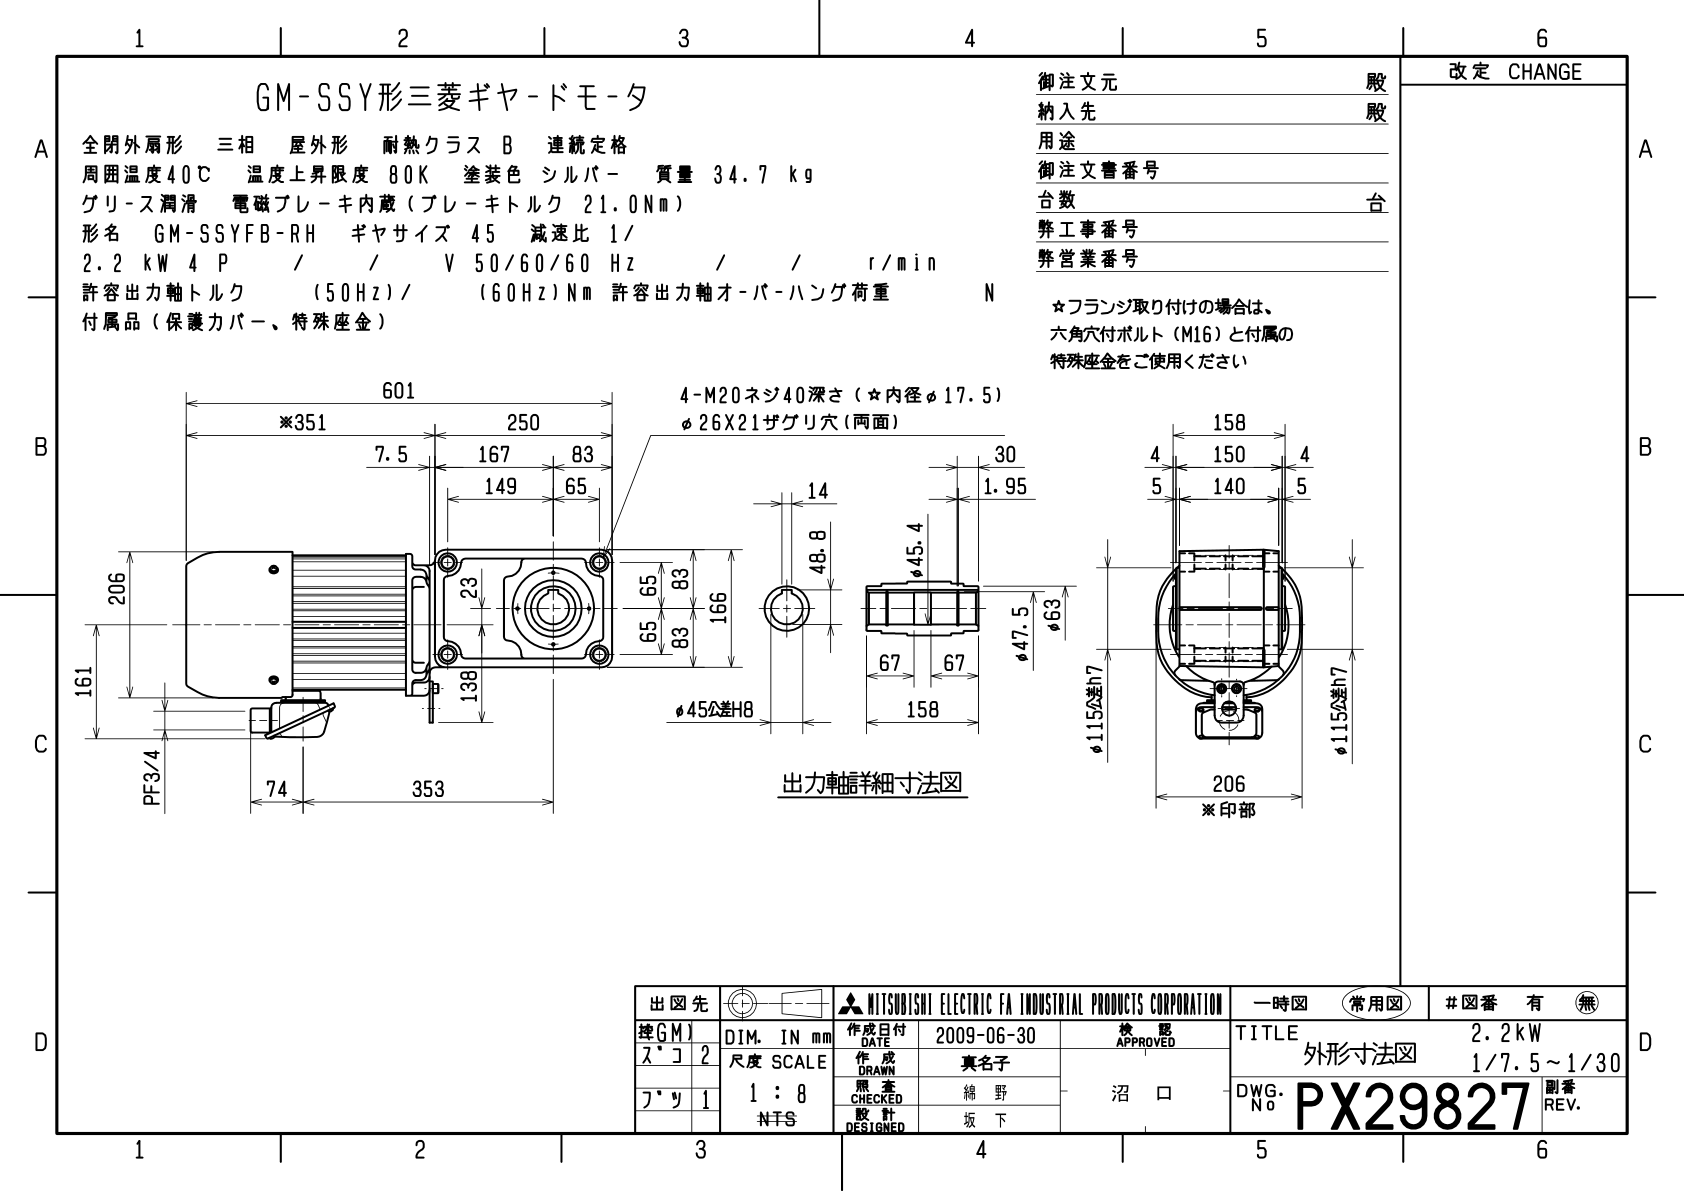GM_SSY_屋外_三相: (9, 13, 1661, 1191)
